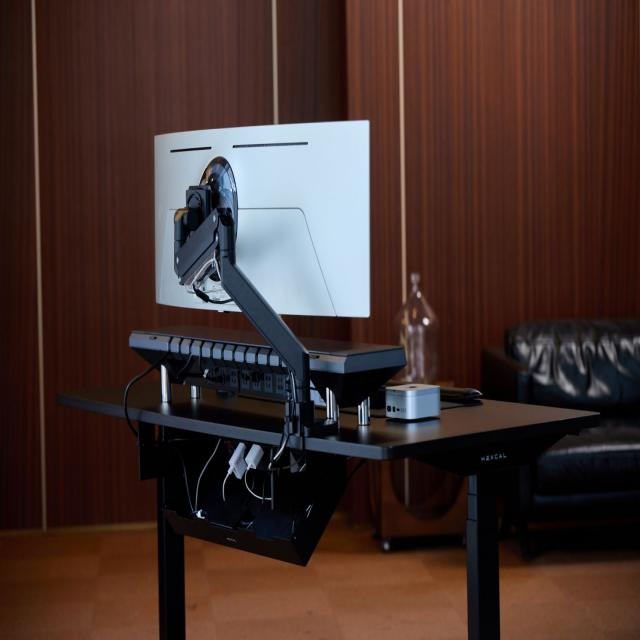electronics: (130, 122, 406, 563), (155, 121, 369, 316), (160, 435, 347, 565), (162, 441, 346, 565), (162, 449, 346, 566), (302, 338, 481, 419), (129, 325, 288, 401), (129, 325, 288, 400), (173, 156, 245, 310), (173, 156, 238, 304), (302, 338, 406, 407), (122, 354, 165, 437), (193, 437, 221, 518), (386, 383, 440, 420), (387, 383, 439, 421), (389, 385, 439, 419), (244, 443, 270, 501), (222, 441, 246, 501), (371, 379, 407, 416), (244, 467, 271, 503), (440, 386, 482, 409), (441, 387, 482, 409), (441, 387, 482, 405), (228, 441, 246, 478), (203, 277, 228, 299), (244, 443, 263, 468), (140, 431, 156, 456), (134, 422, 146, 450), (310, 386, 326, 407), (289, 452, 302, 473), (185, 455, 198, 476), (161, 379, 171, 398), (351, 462, 361, 473), (186, 458, 194, 470), (246, 417, 254, 428), (124, 393, 126, 414), (157, 443, 162, 449), (430, 387, 437, 391), (153, 467, 159, 471), (252, 473, 254, 484), (387, 394, 390, 401), (150, 433, 153, 439), (205, 426, 208, 432), (207, 262, 210, 268), (252, 476, 254, 484), (140, 471, 143, 476), (172, 445, 175, 450), (265, 454, 268, 458), (230, 443, 233, 447), (186, 199, 188, 205), (234, 299, 237, 303), (142, 462, 144, 467), (185, 476, 186, 485), (192, 471, 195, 474), (243, 276, 245, 280), (175, 438, 181, 439), (146, 435, 149, 437), (204, 269, 206, 272), (359, 417, 360, 422), (228, 247, 233, 248), (264, 482, 265, 486), (160, 368, 162, 370), (371, 413, 373, 415), (196, 488, 197, 492), (196, 466, 198, 468), (409, 400, 411, 402), (249, 448, 250, 451), (164, 376, 166, 377), (248, 280, 250, 281), (276, 407, 278, 408), (204, 256, 206, 257), (184, 467, 185, 469), (216, 445, 217, 446), (372, 413, 372, 414), (185, 447, 186, 447), (132, 426, 132, 428), (130, 424, 130, 425), (390, 413, 390, 414), (147, 358, 148, 358), (196, 194, 197, 194), (311, 383, 312, 383)
